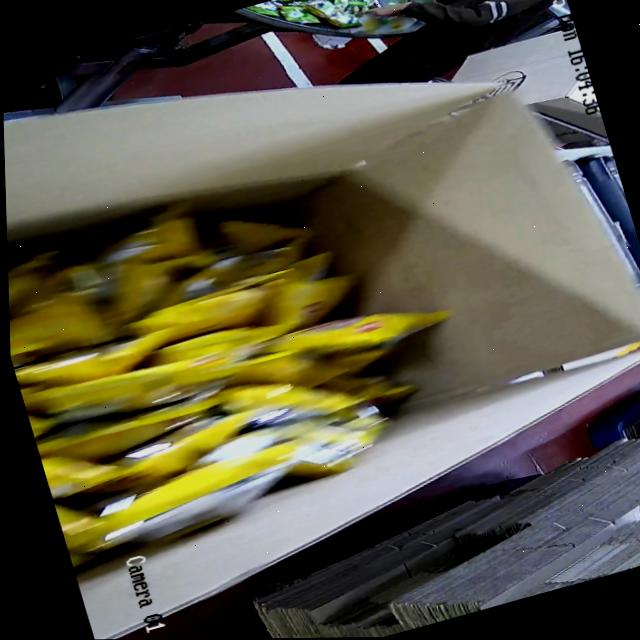SALTED: (5, 158, 465, 578)
